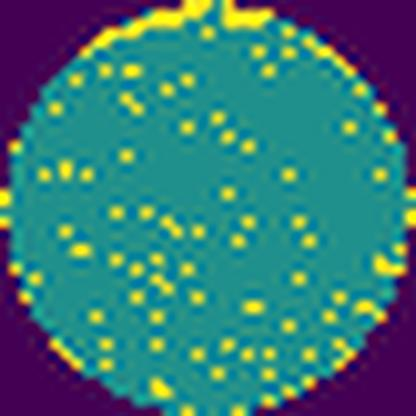Edge-Loc: (83, 0, 214, 52), (220, 0, 273, 35)
